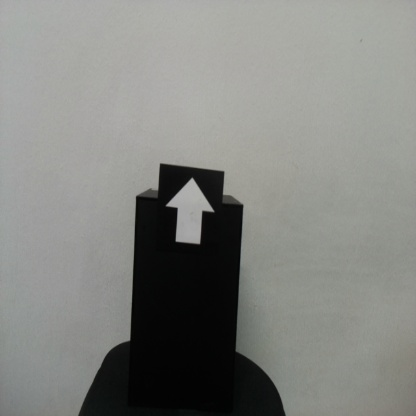id_1: (160, 169, 224, 254)
